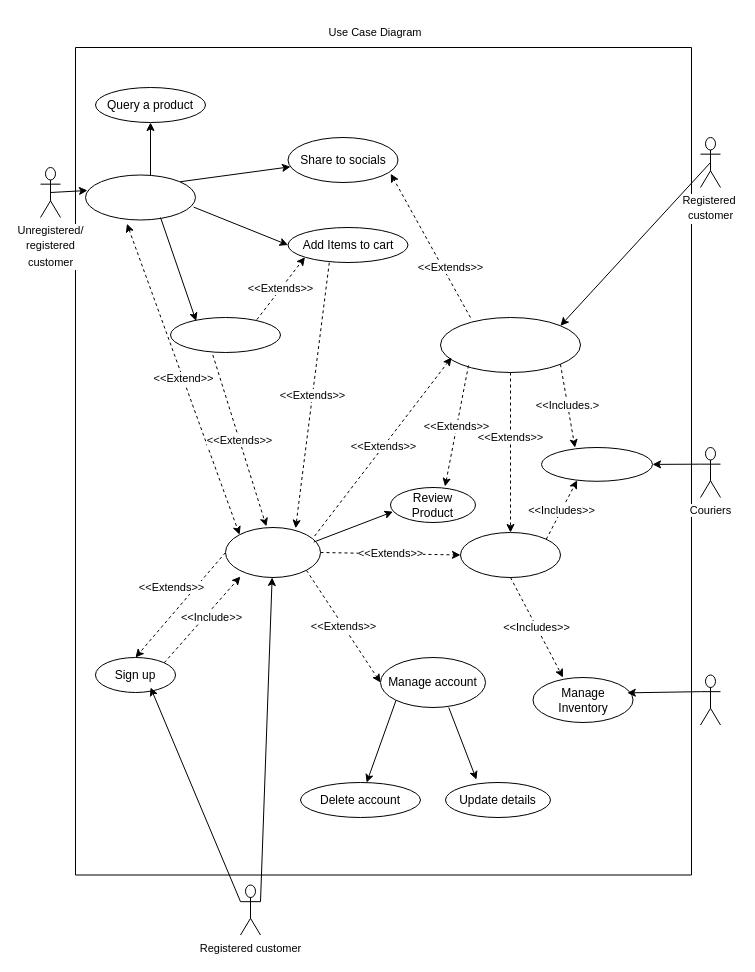
Image size: 755x972. Some labels were removed from this diagram. The centre of each missing label's shape, as x and y in pixels:
Add Items to Wishlist: point 225,334
Arrange Product Movement: point 596,463
Browser Items: point 140,197
Checkout cart/ make purchase: point 510,344
Log a Return: point 510,555
Login: point 272,552
Owner: point 710,699
